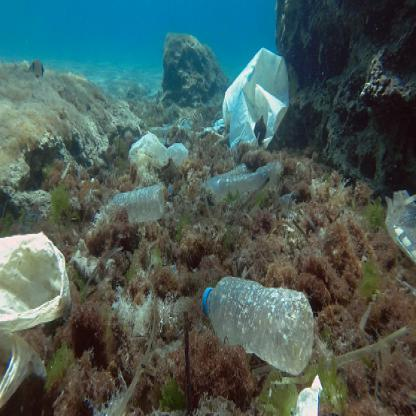Plastic: (201, 272, 316, 382), (201, 159, 279, 206), (104, 175, 166, 226)
